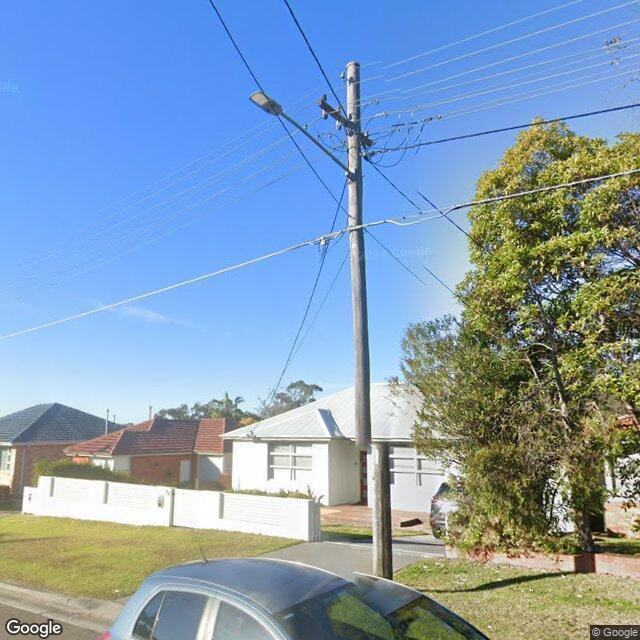crossarm: (316, 96, 374, 148)
streetlight: (248, 90, 357, 180)
timber-pole: (346, 62, 394, 577)
